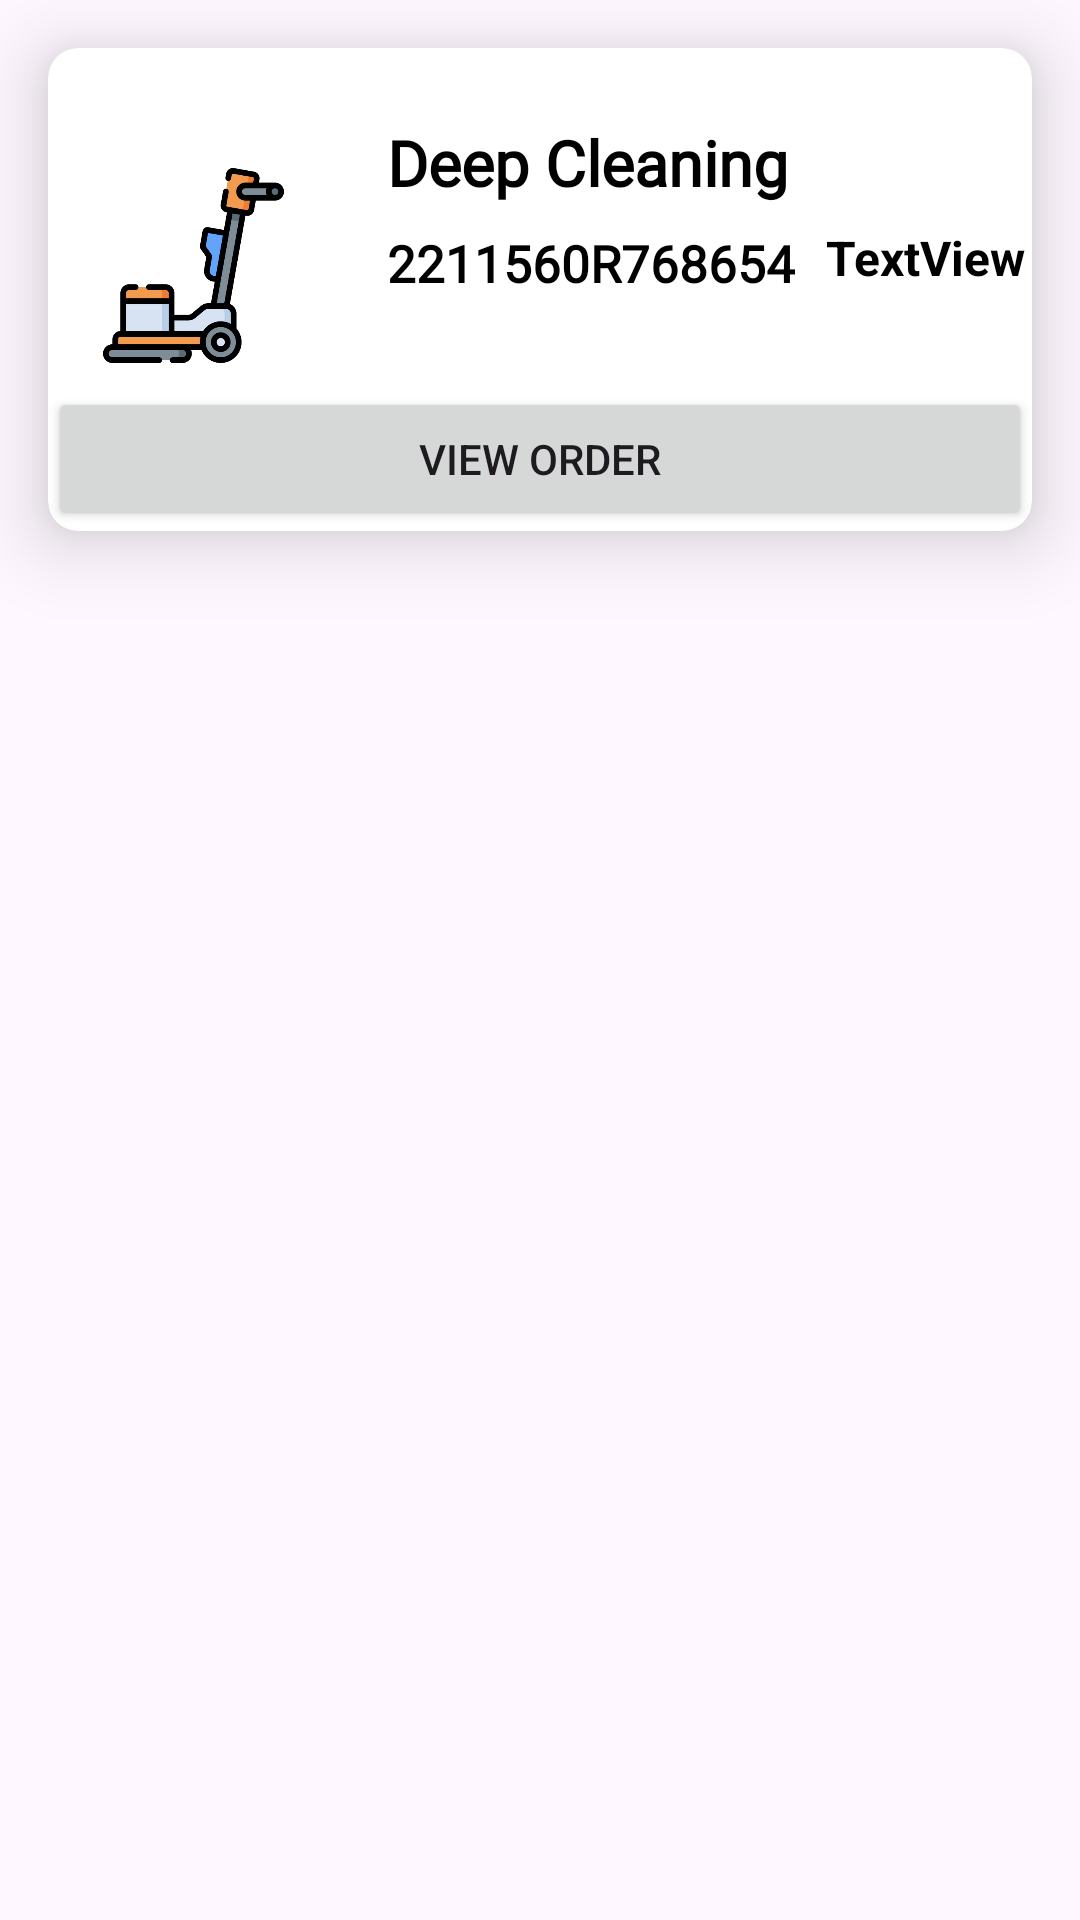

Screen size 1080*1920. Icon name, then its center in pixels as [x,y]:
floorpolisher: [193,265]
